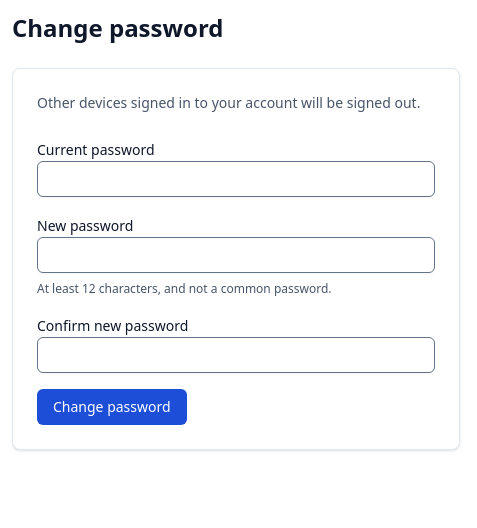
Test: ChangePasswordPage › explains a 400 {"code":"current_password_invalid"}
In the password field labelled "Current password": {"x": 236, "y": 179} [37,161,435,197], type "old passphrase 123"
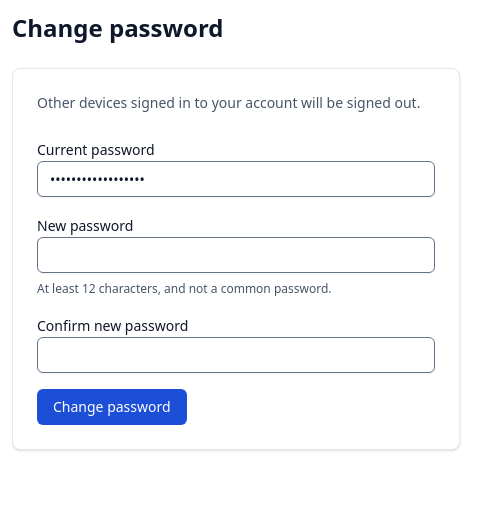
In the password field labelled "New password": {"x": 236, "y": 255} [37,237,435,273], type "a brand new passphrase"
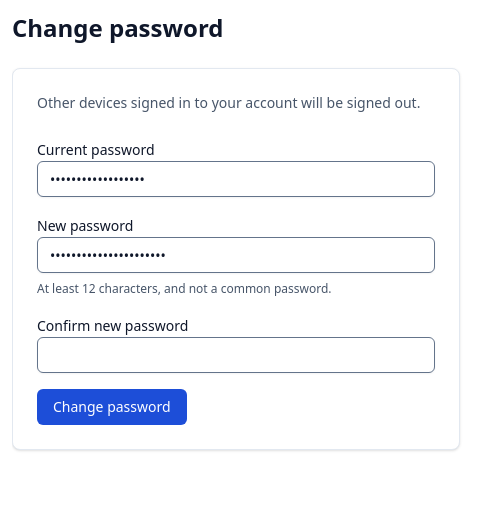
In the password field labelled "Confirm new password": {"x": 236, "y": 355} [37,337,435,373], type "a brand new passphrase"
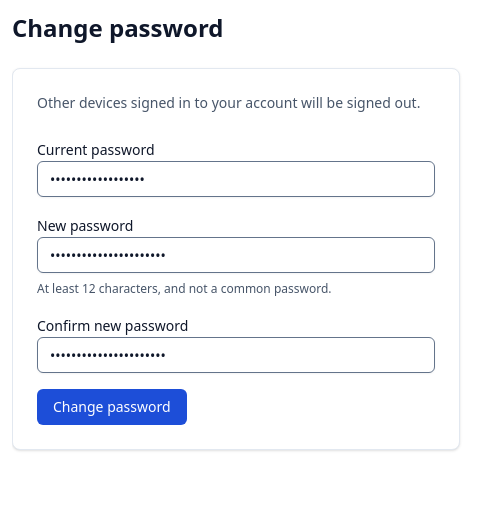
Click the button "Change password": {"x": 112, "y": 407} [37,389,187,425]
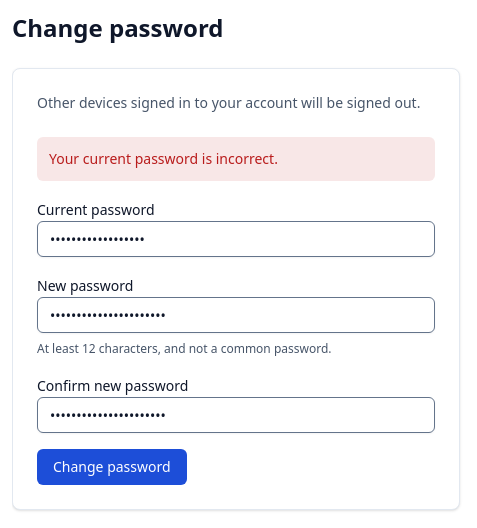
expect the message reads "Your current password is incorrect.": met, box [49,149,278,168]
